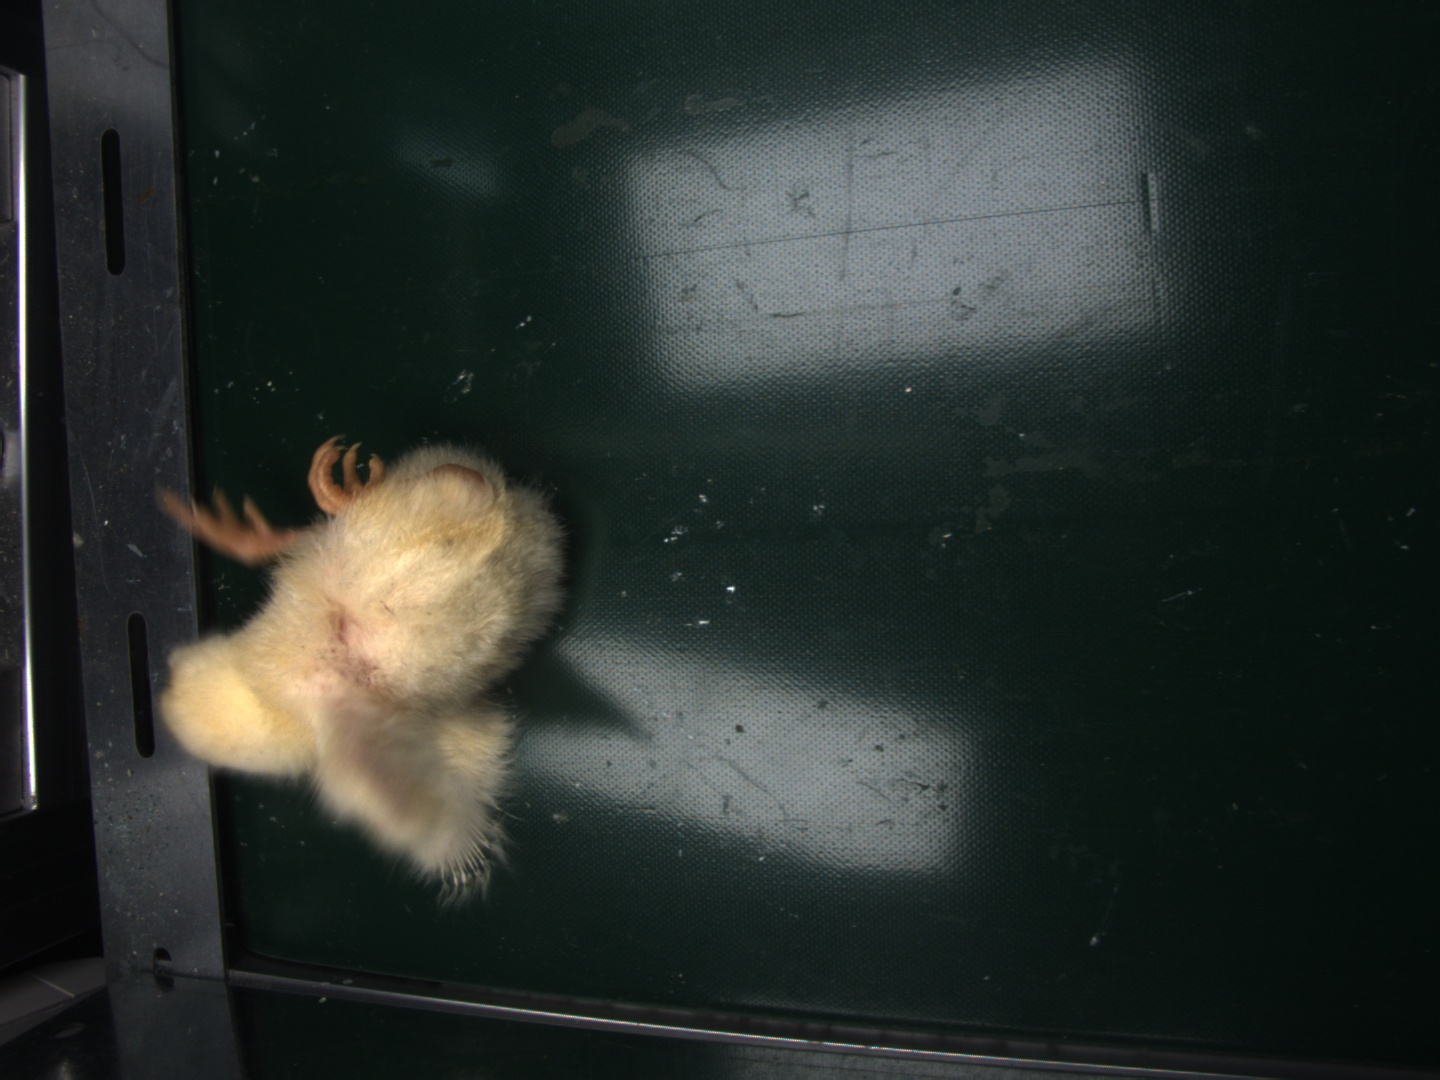male: (440, 830, 491, 888)
